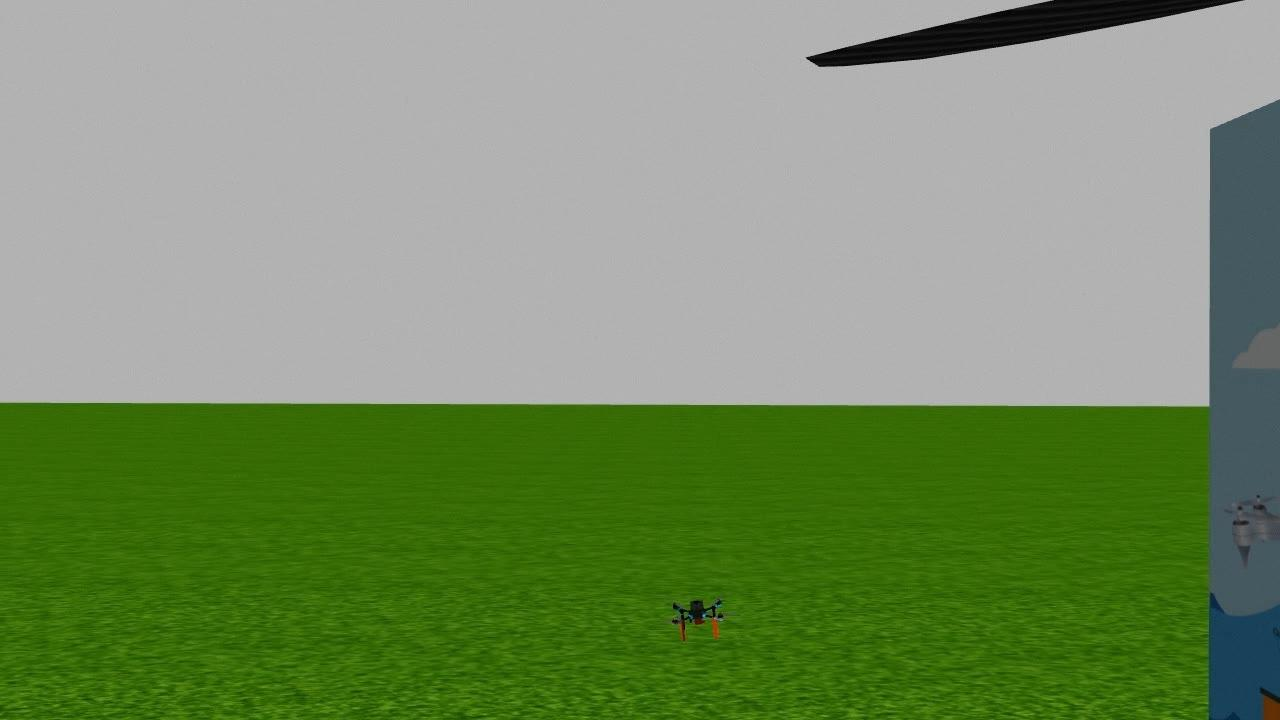UAV: (654, 591, 744, 651)
